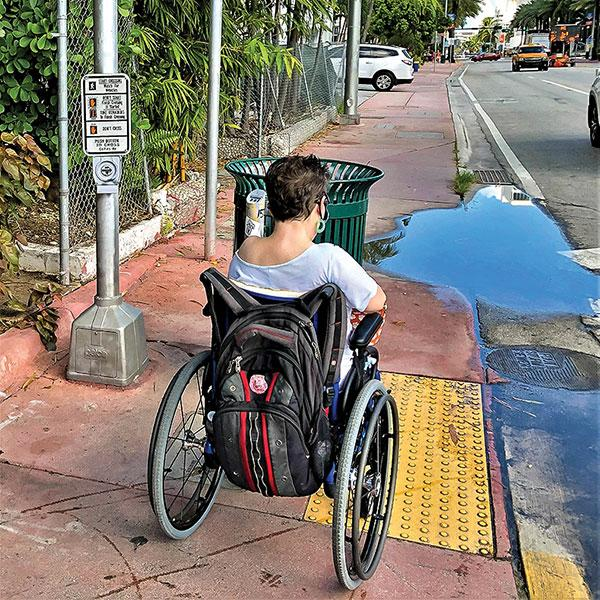wheelchair: (146, 154, 401, 591)
